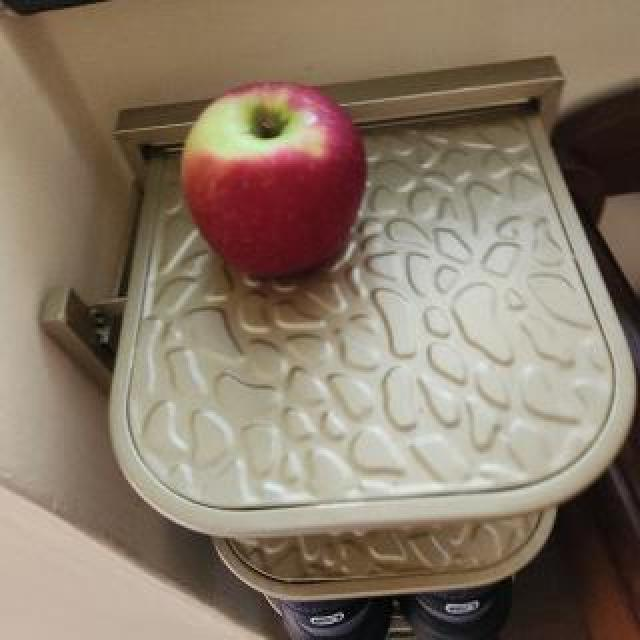Fresh Apple: (180, 94, 362, 271)
